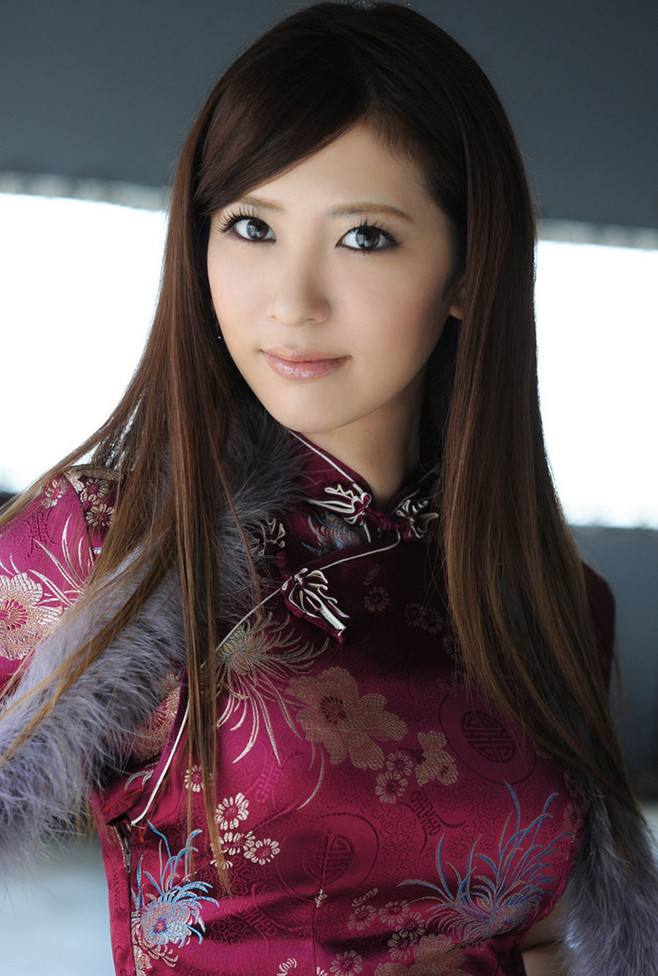person: (49, 1, 594, 858)
